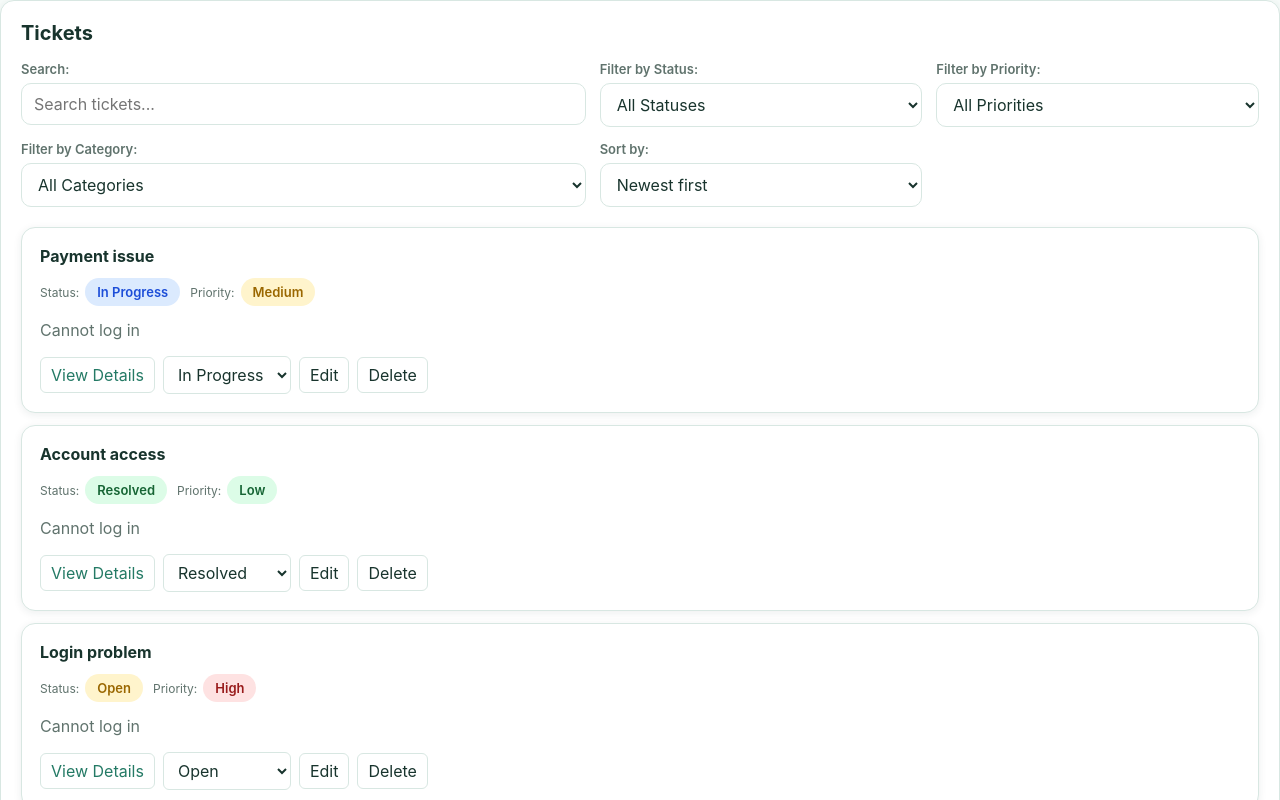
TicketList › shows the empty state when filters match no tickets
Type "nonexistent ticket" into the field labelled "Search:".
click(303, 104); type("nonexistent ticket")  # box [21, 83, 586, 125]
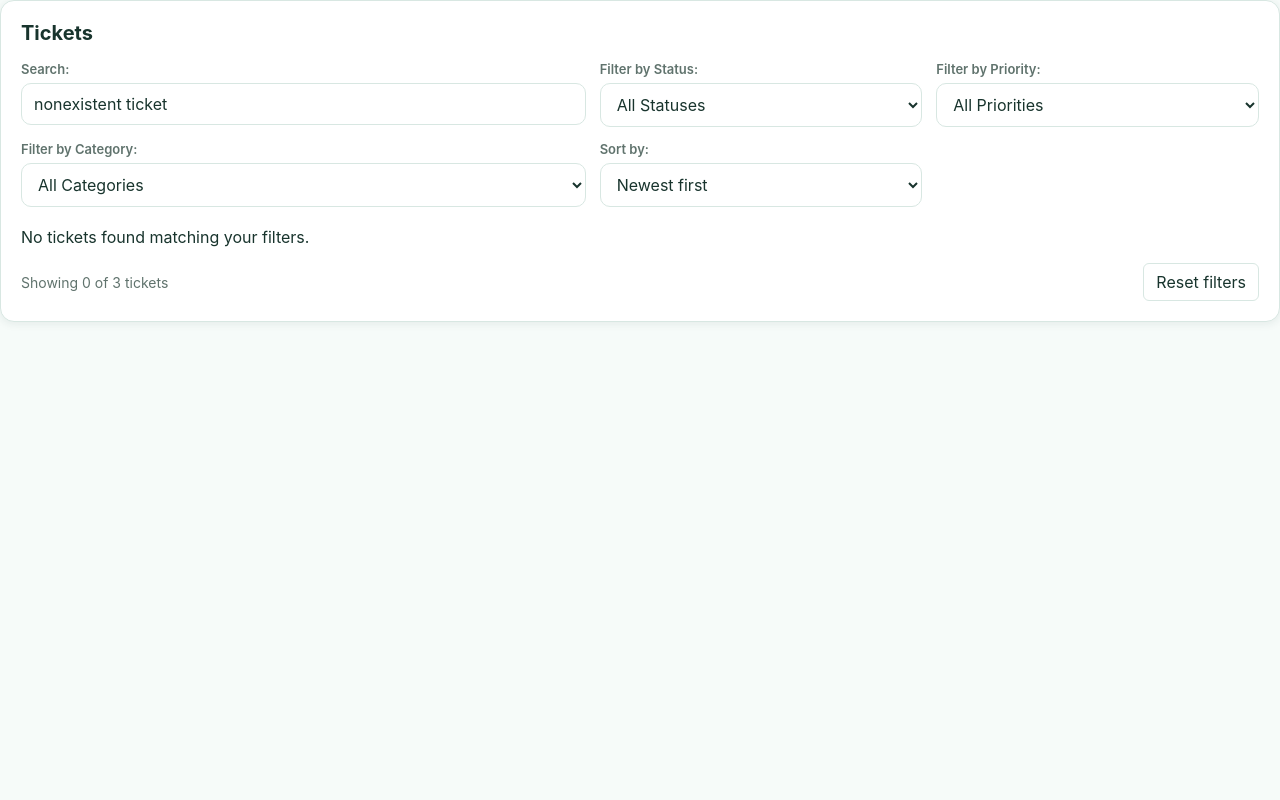
Expected: the text "No tickets found matching your filters." is shown, [21, 227, 309, 247]
Expected: the text "Showing 0 of 3 tickets" is shown, [21, 274, 168, 290]
